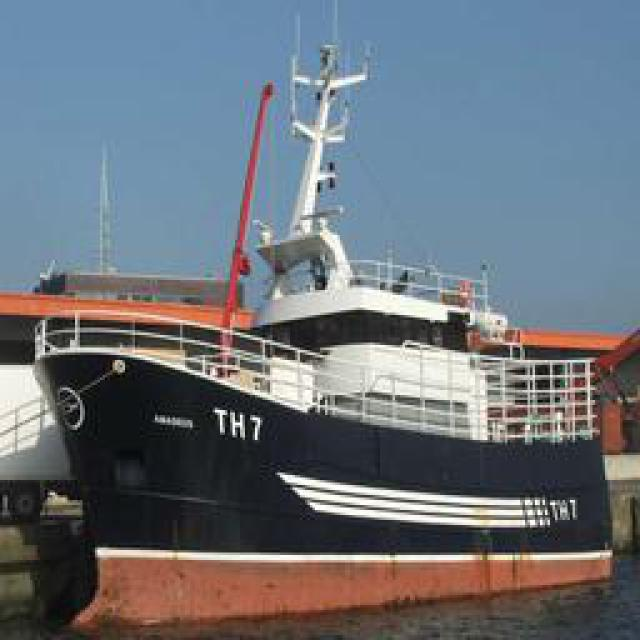Ship: (27, 26, 625, 574)
